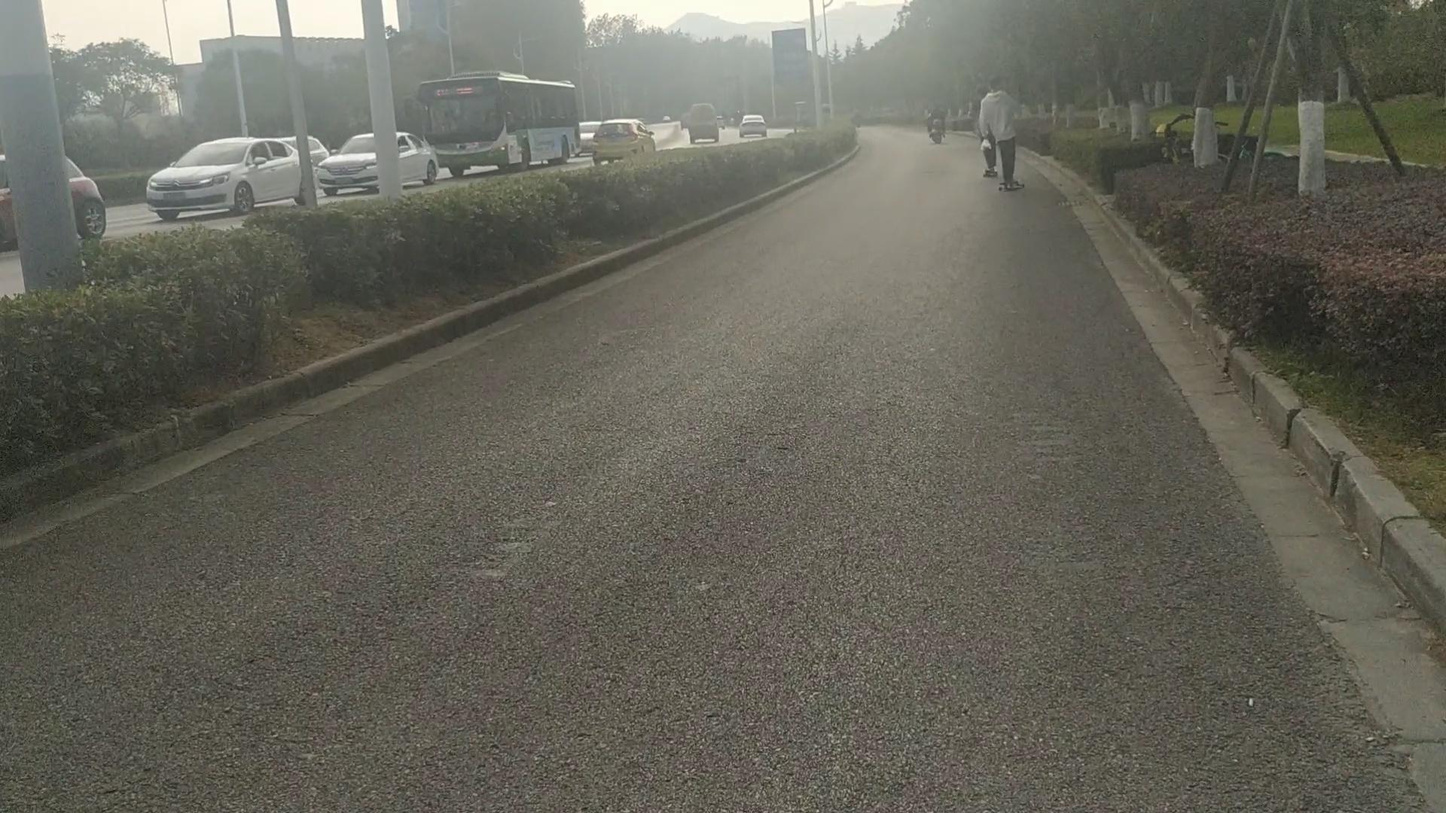car: (146, 135, 328, 221), (0, 145, 107, 249), (316, 130, 439, 195), (591, 119, 656, 163), (272, 135, 333, 166), (680, 105, 720, 144), (578, 120, 602, 153), (738, 114, 766, 141)
